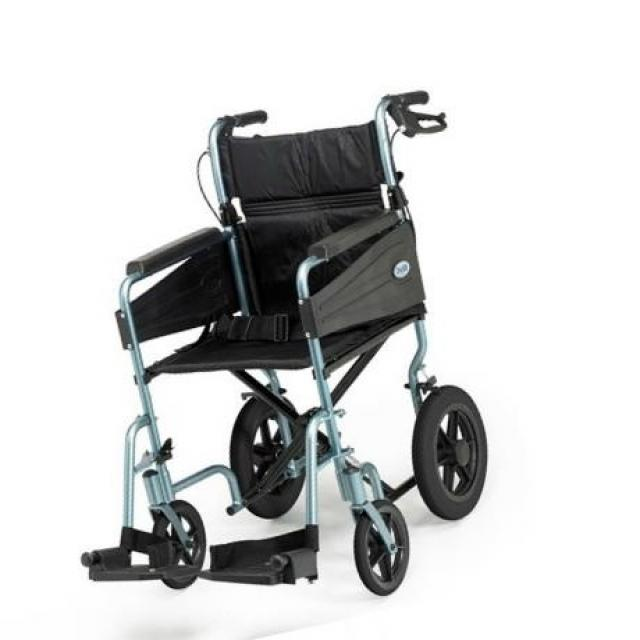wheelchair: (66, 78, 519, 612)
